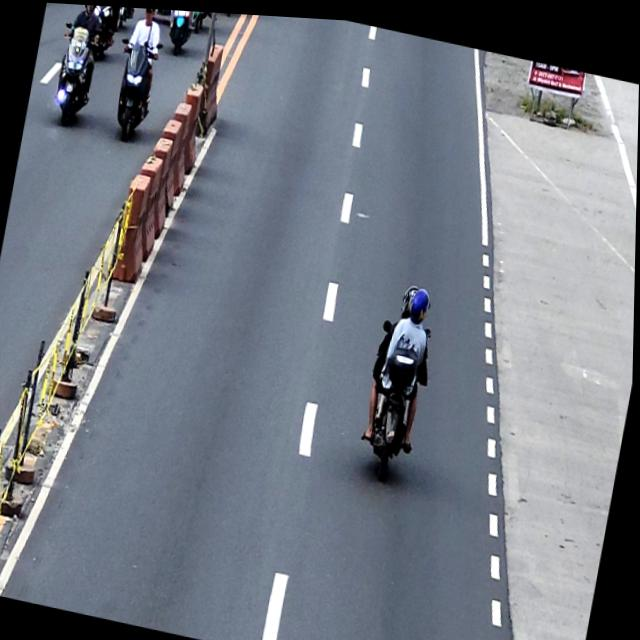Motorcycle: (357, 312, 436, 484), (105, 32, 164, 145), (47, 18, 103, 130), (80, 4, 129, 66), (159, 7, 200, 56)
